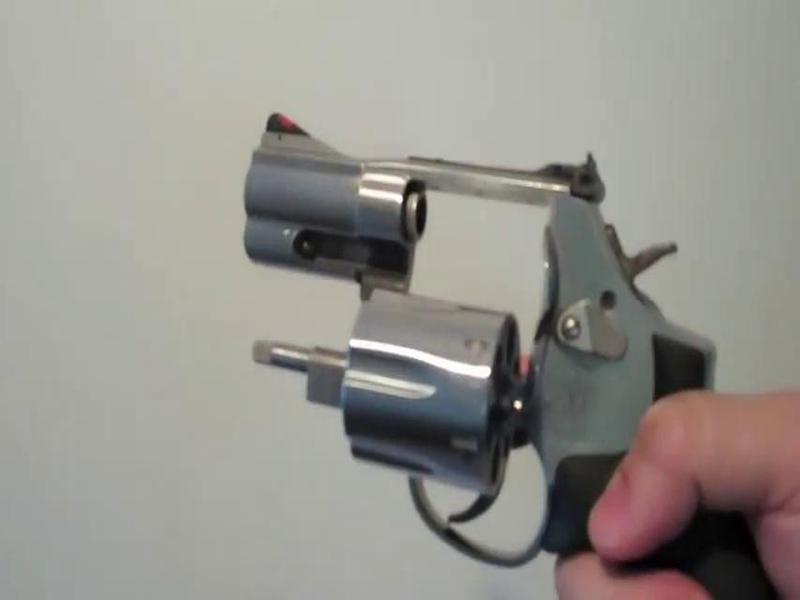Revolver: (234, 85, 756, 600)
